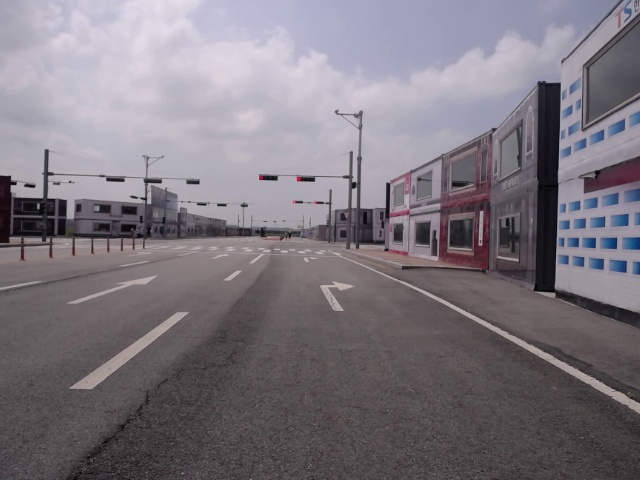red_4: (258, 175, 278, 181), (297, 176, 315, 182), (312, 201, 324, 205), (292, 199, 303, 203)
